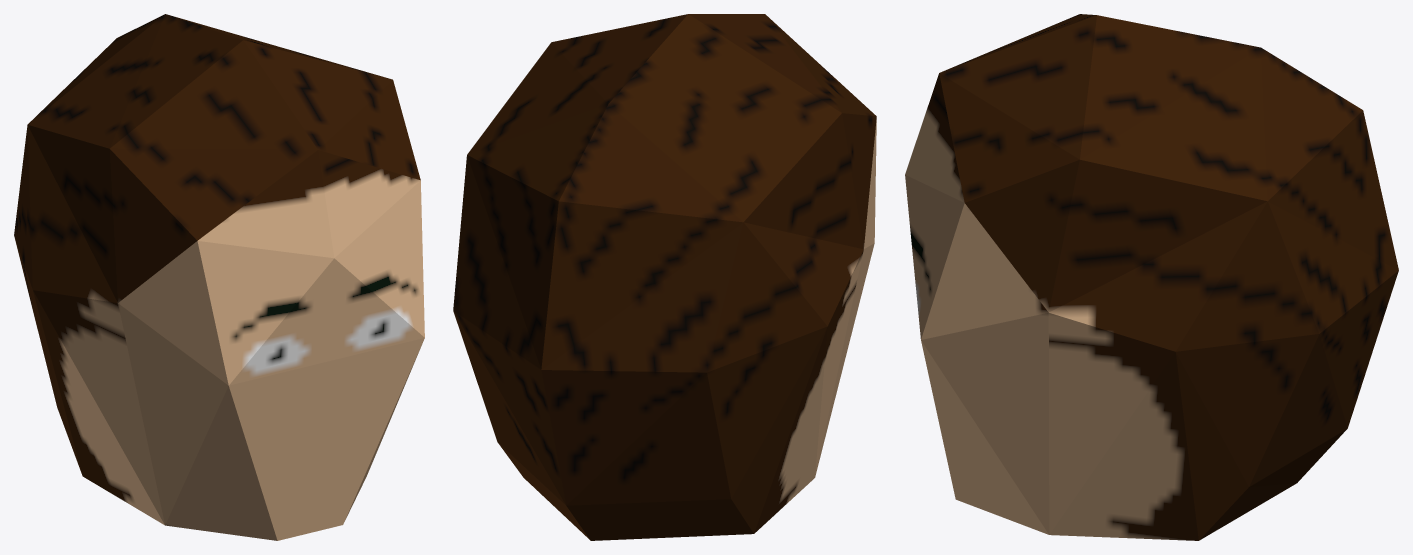
File: huf_head.gltf
3 views of the same model, side by side, from view 1: azimuth 30°, elevation 25°; view 2: azimuth 150°, elevation 25°; view 3: azimuth 270°, elevation 25° (orthographic). The views are drawn at different scales.
Visible parts, largest first — view 1: foot (3); view 2: foot (3); view 3: foot (3).
Boxes of the visible parts, x1,y1,x2,y2 form: foot (3): [14, 14, 424, 540]; foot (3): [453, 14, 876, 540]; foot (3): [905, 14, 1398, 540].
Size of the model in its own units: 16.05 by 19.67 by 18.81.
Materials: 1 (1 with a texture image).
